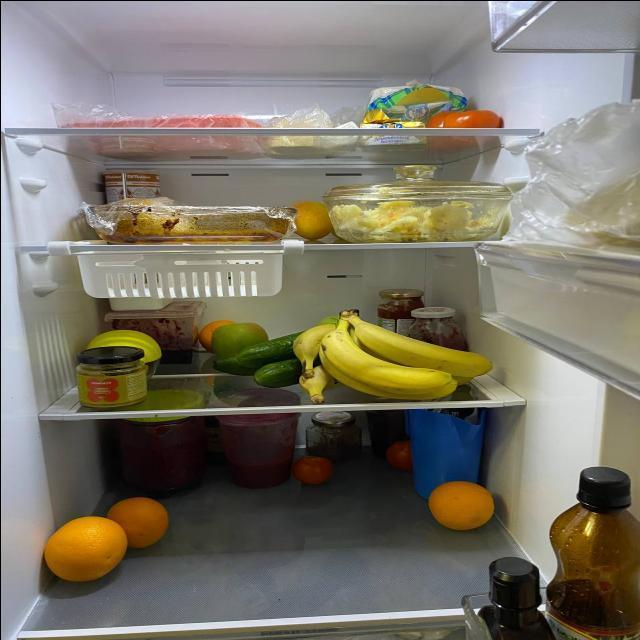Apple: (282, 196, 334, 234), (210, 321, 270, 351), (316, 309, 346, 328)
Banana: (290, 309, 490, 398)
Cucumber: (236, 332, 302, 363), (248, 358, 302, 386), (212, 352, 254, 372)
Orange: (38, 515, 126, 582), (429, 480, 494, 531), (109, 496, 171, 545), (197, 319, 231, 347)
Tomato: (448, 107, 506, 135), (286, 450, 336, 482), (386, 439, 416, 468), (426, 111, 446, 129)
